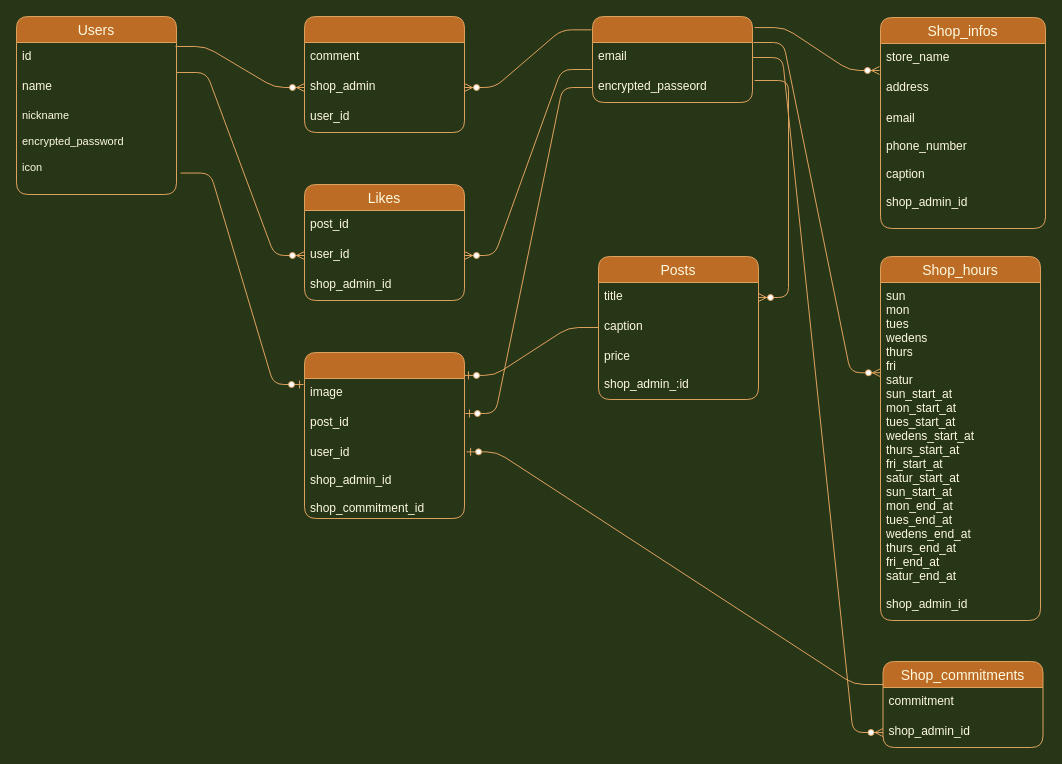
This 1062x764 diagram has some shape labels left out. The box of each missing label's shape, as (x1, y1, x2, y2) in pixels:
Admin_users: (592, 16, 752, 102)
Comments: (304, 16, 464, 132)
Photos: (304, 352, 464, 518)
